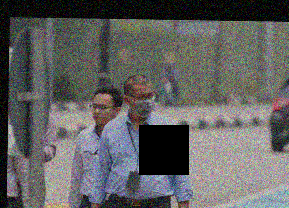with_mask: (129, 91, 156, 119)
without_mask: (91, 101, 114, 125)
